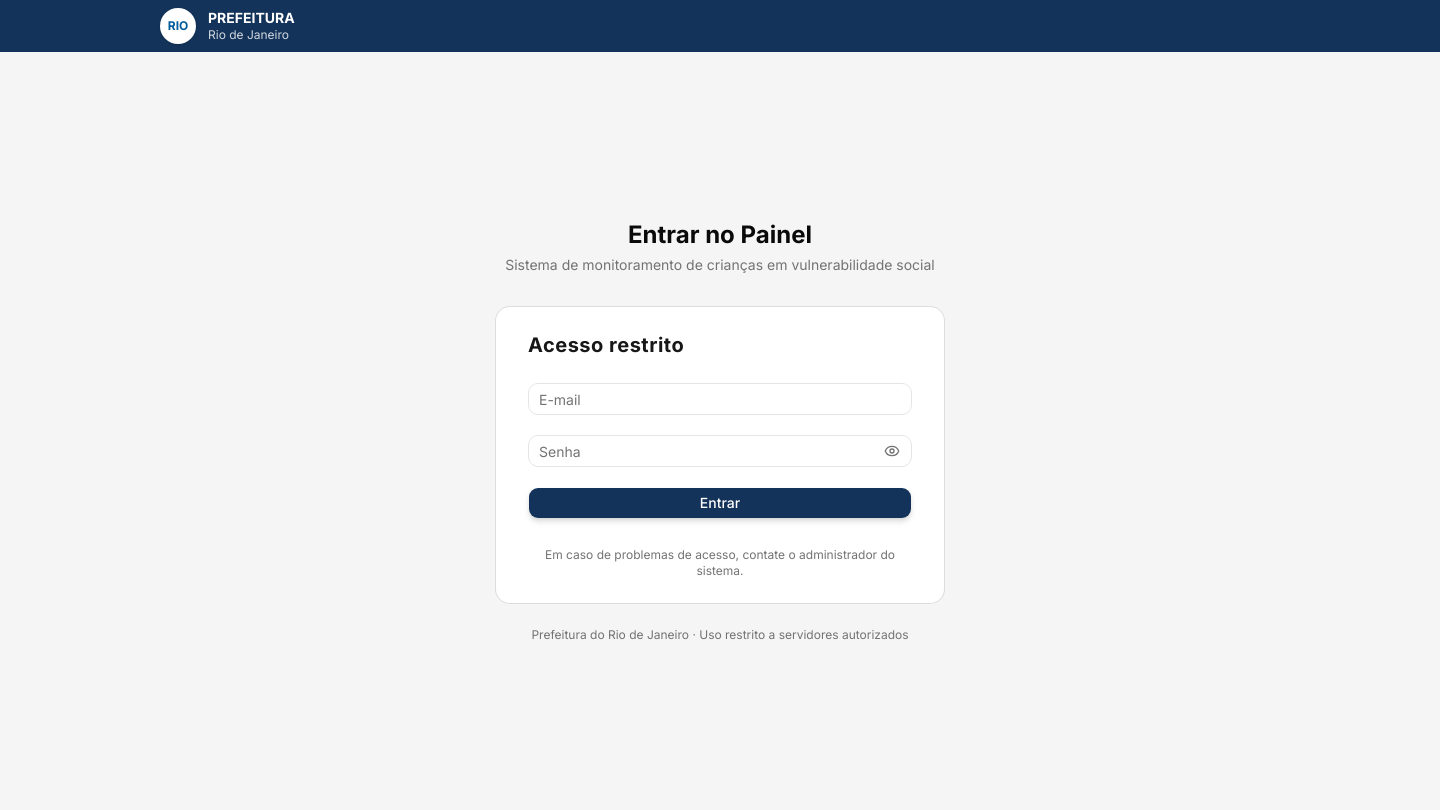
LoginPage › exibe erro de validação para email inválido
Type "emailinvalido" into the field with placeholder "E-mail".
click(720, 399); type("emailinvalido")  # box x1=528 y1=383 x2=912 y2=415
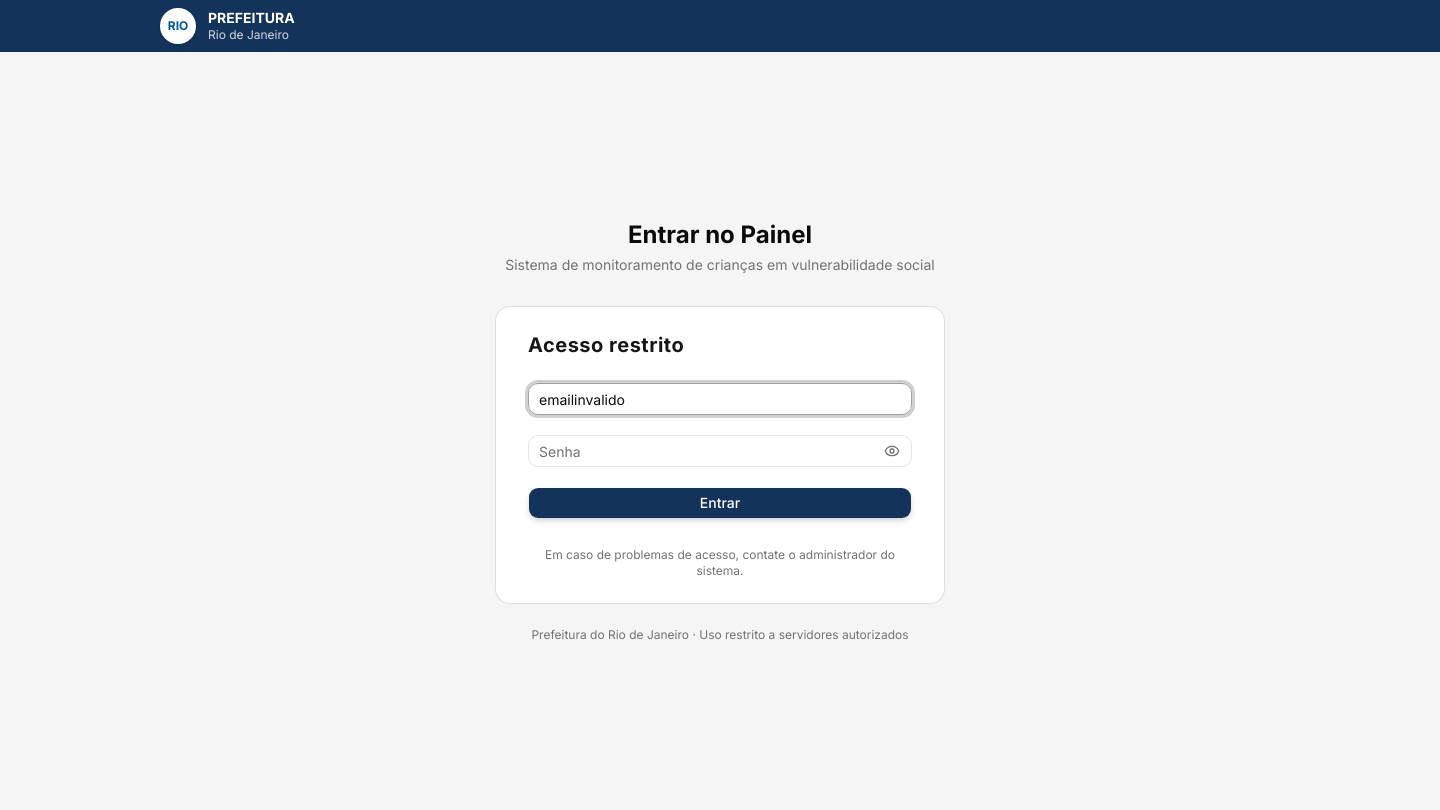
Click the button "Entrar".
click(720, 503)  # box x1=528 y1=487 x2=912 y2=519
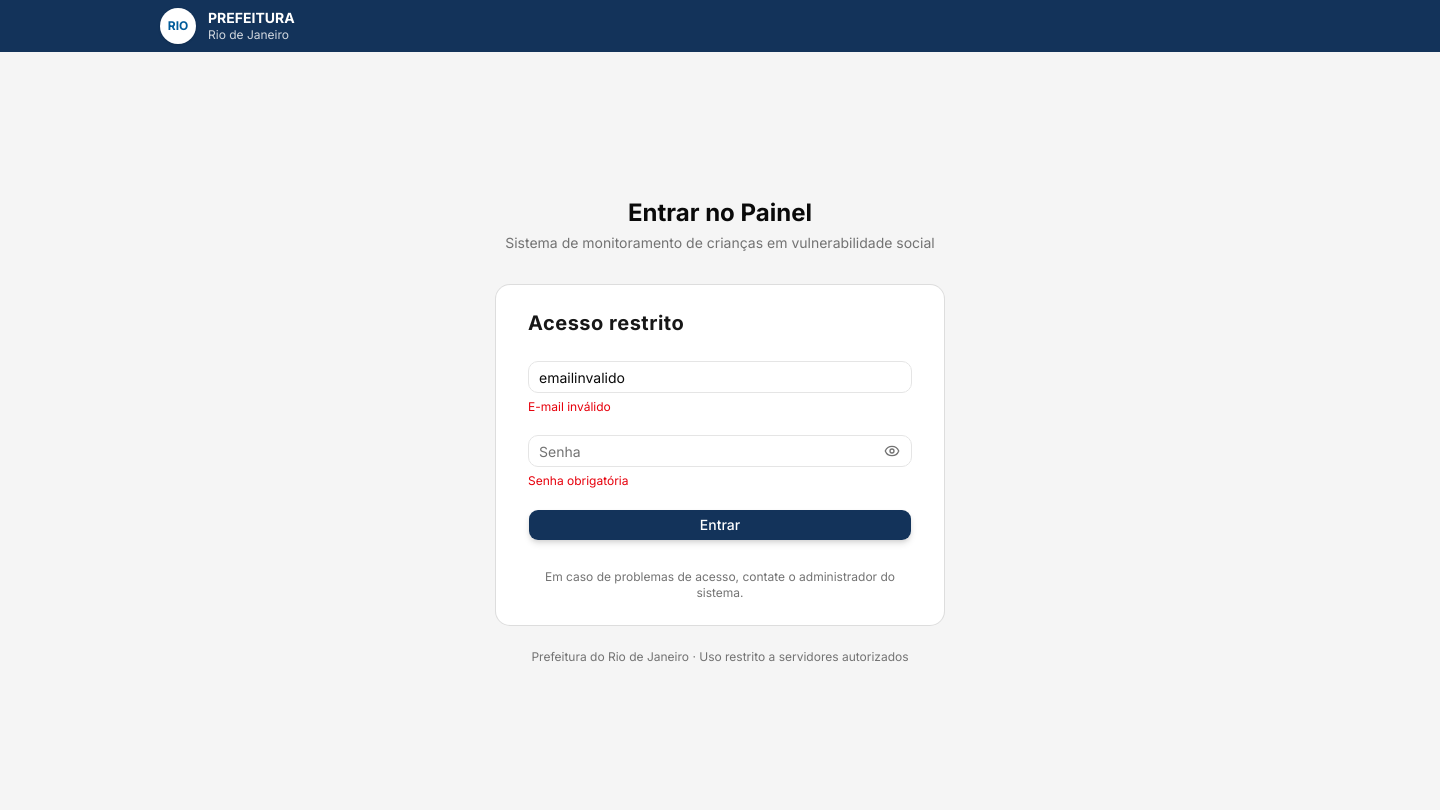
Result: the text "E-mail inválido" is shown at x1=528 y1=399 x2=611 y2=414
